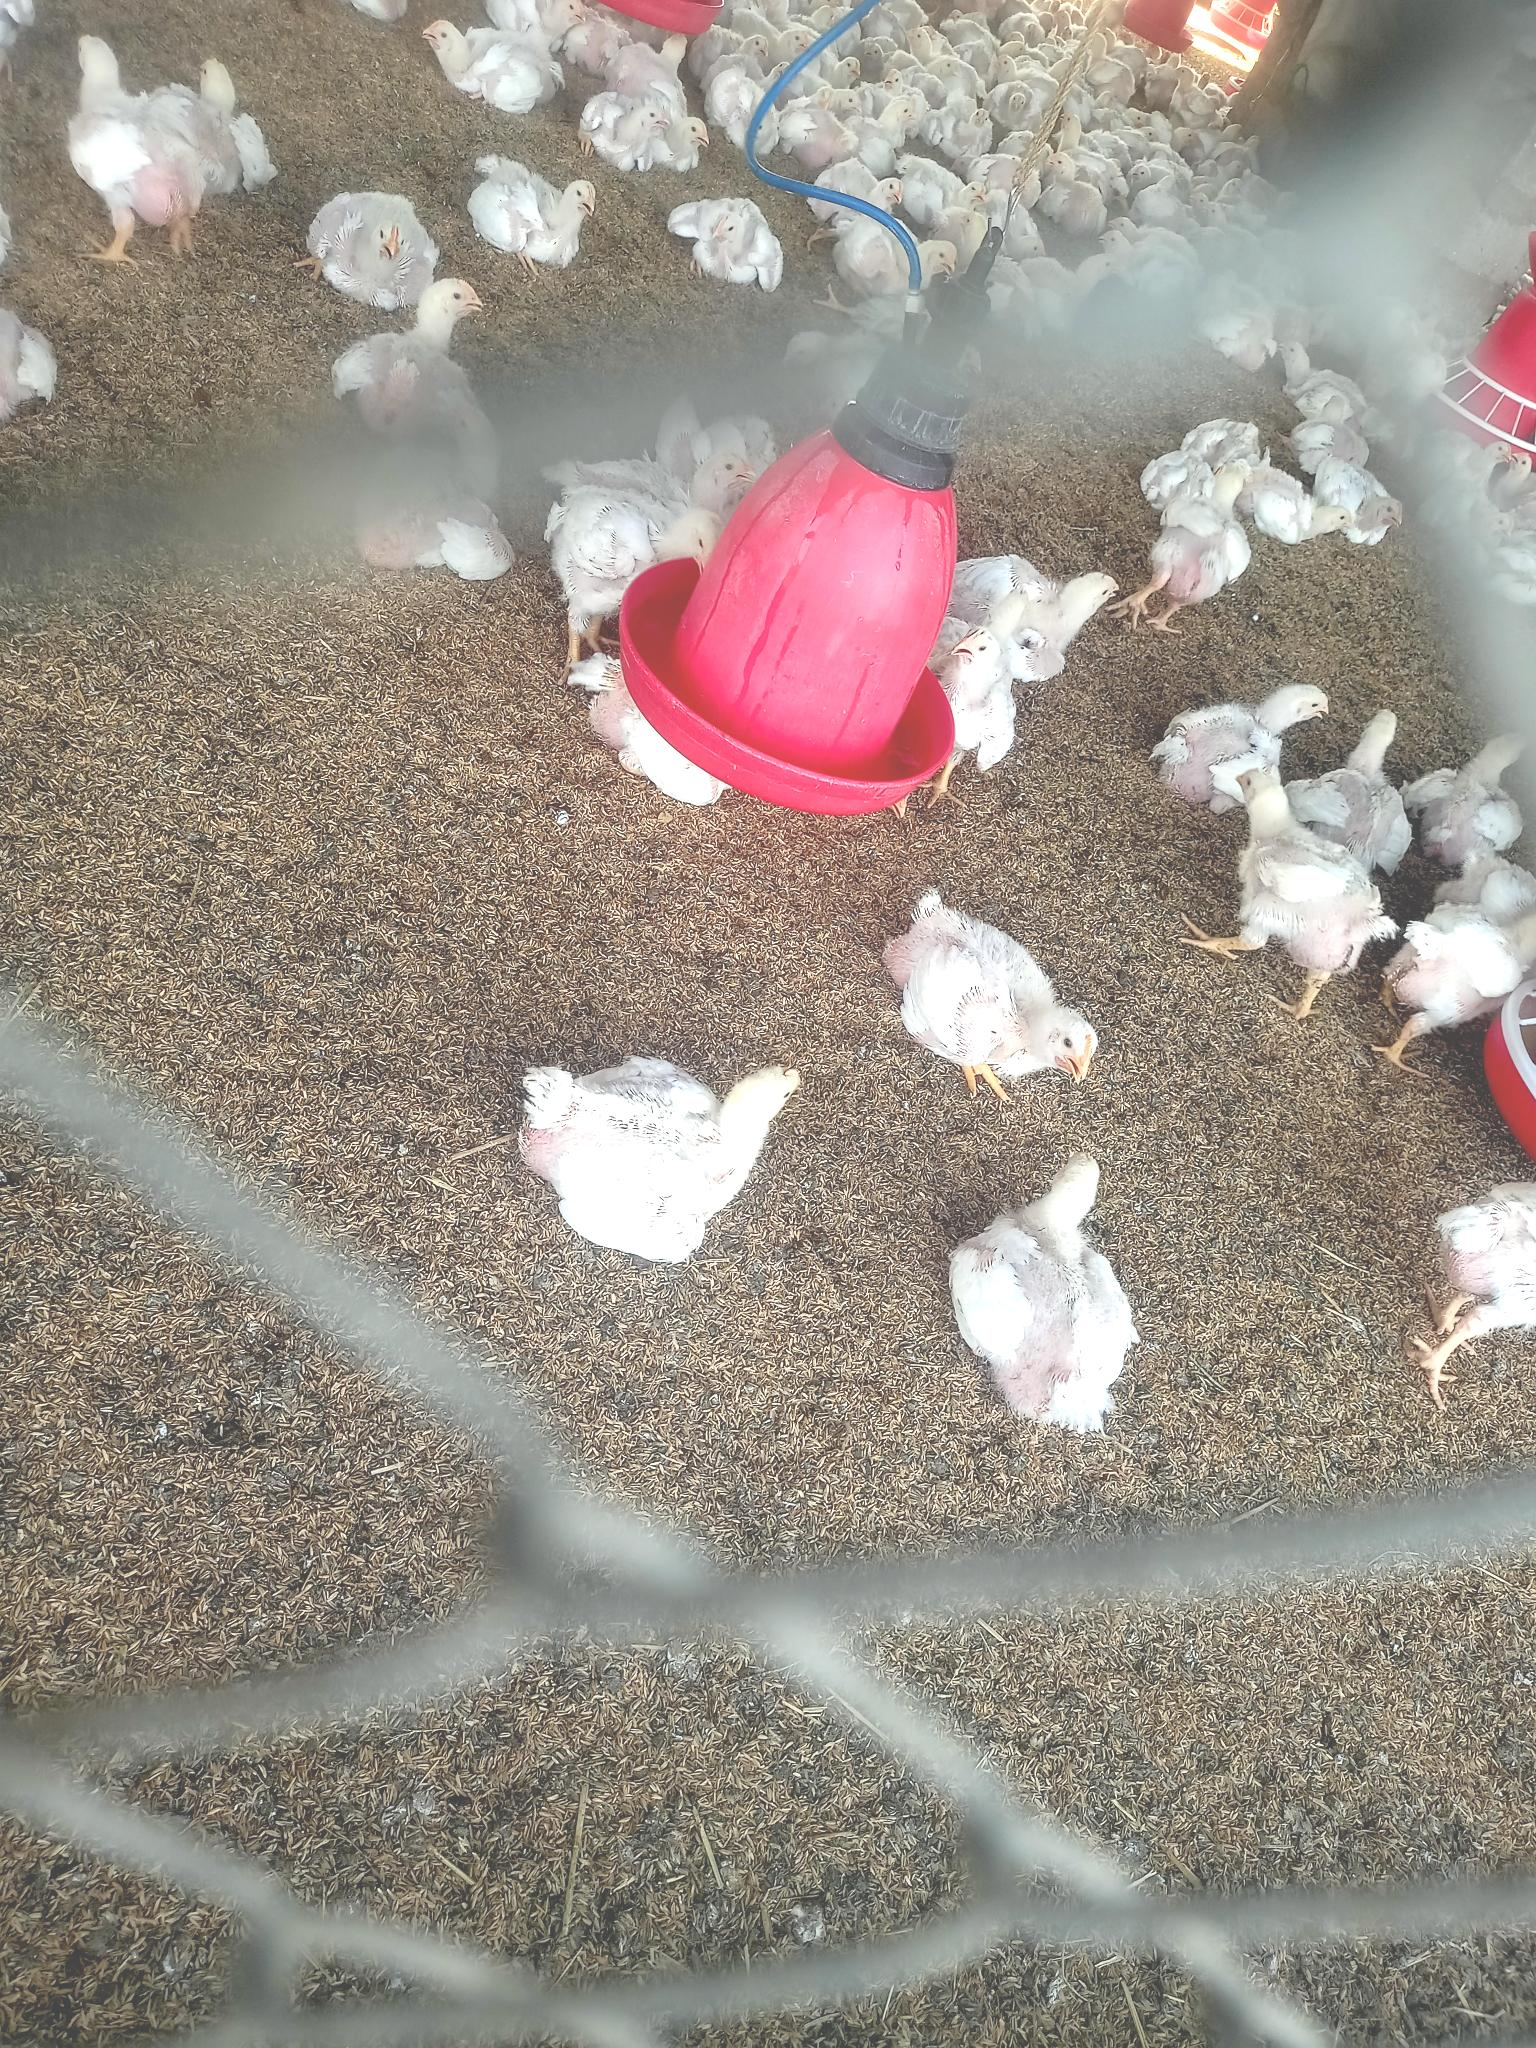Pollos: (516, 1050, 794, 1266), (945, 1147, 1139, 1416), (1197, 774, 1384, 1008), (912, 880, 1102, 1105), (76, 21, 223, 252), (307, 176, 444, 314), (466, 155, 600, 273), (1170, 677, 1326, 761), (937, 627, 1028, 764), (668, 192, 768, 298)
